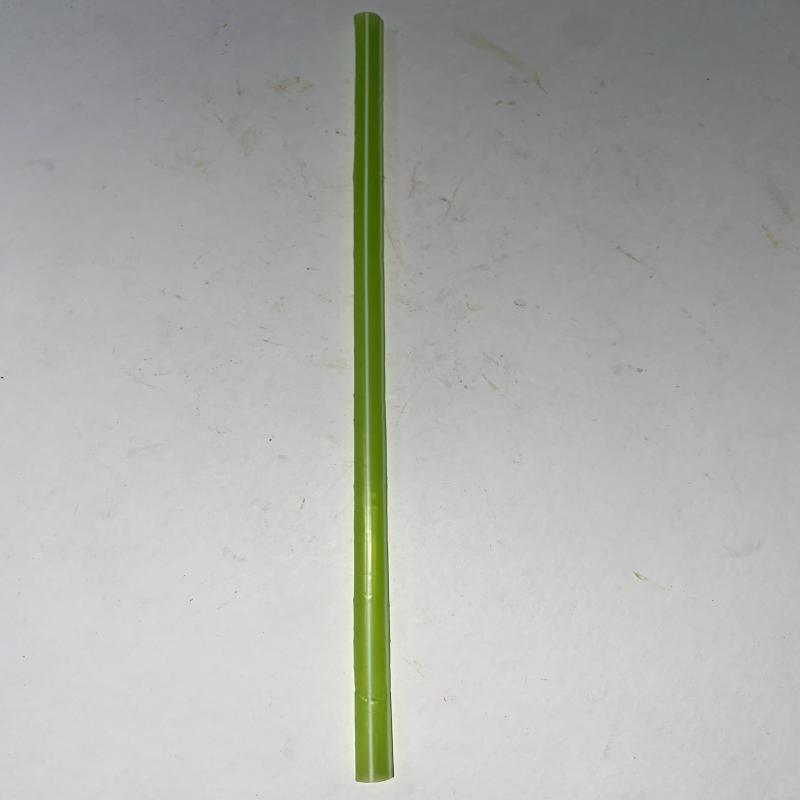plastic straw: (354, 13, 393, 782)
